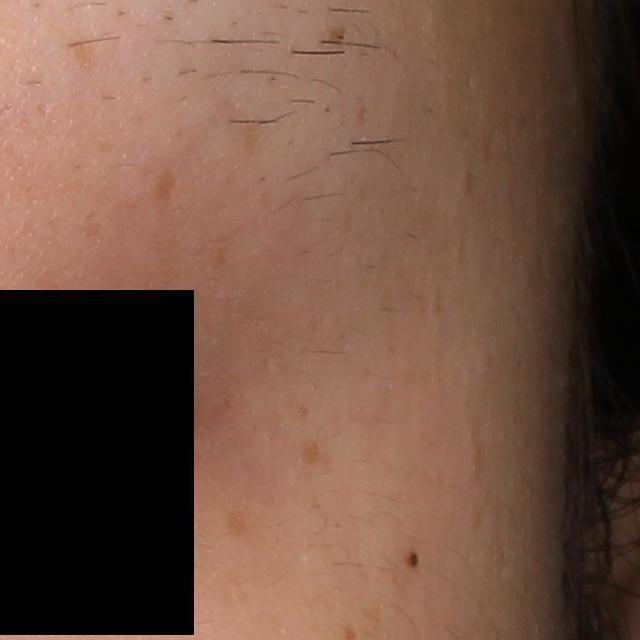melasma: (68, 34, 103, 72), (151, 163, 177, 205), (223, 508, 250, 539), (299, 437, 327, 465)
nevus: (404, 547, 422, 569)
